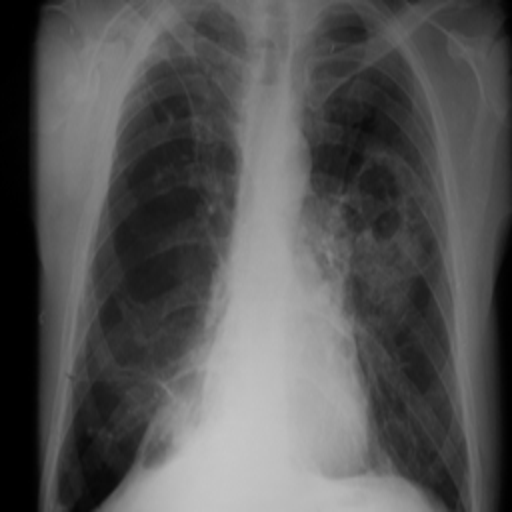TB: (320, 147, 446, 295)
